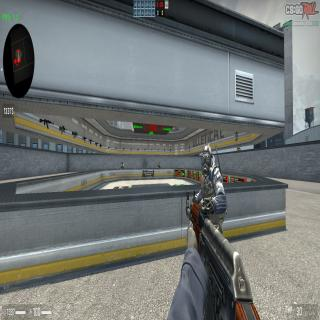CT-Body: (192, 142, 228, 237), (121, 161, 124, 169)
CT-Head: (201, 144, 215, 182), (122, 162, 123, 165)
T-Body: (158, 162, 160, 168)
T-Head: (158, 162, 160, 165)
